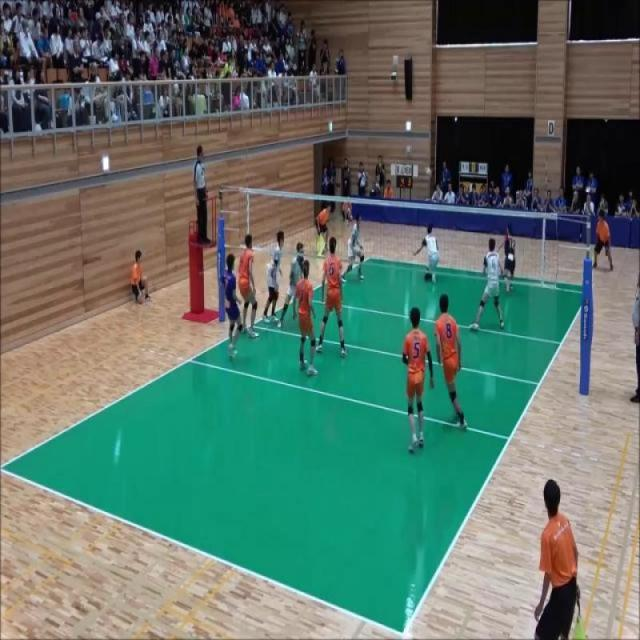volleyball: (424, 166, 432, 178)
